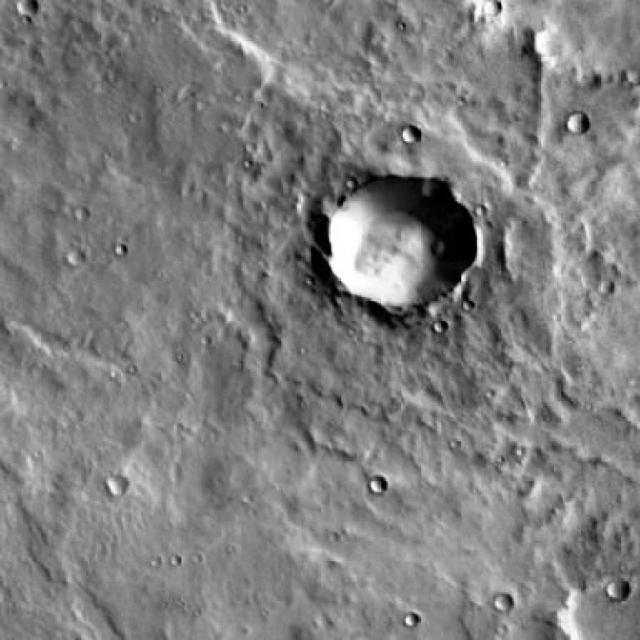crater: (316, 178, 462, 314), (547, 583, 640, 640), (556, 118, 578, 140), (0, 2, 23, 23), (593, 584, 616, 605), (387, 129, 408, 149), (91, 482, 111, 500), (79, 230, 98, 247), (472, 3, 491, 20), (489, 594, 506, 612), (361, 476, 379, 492)
